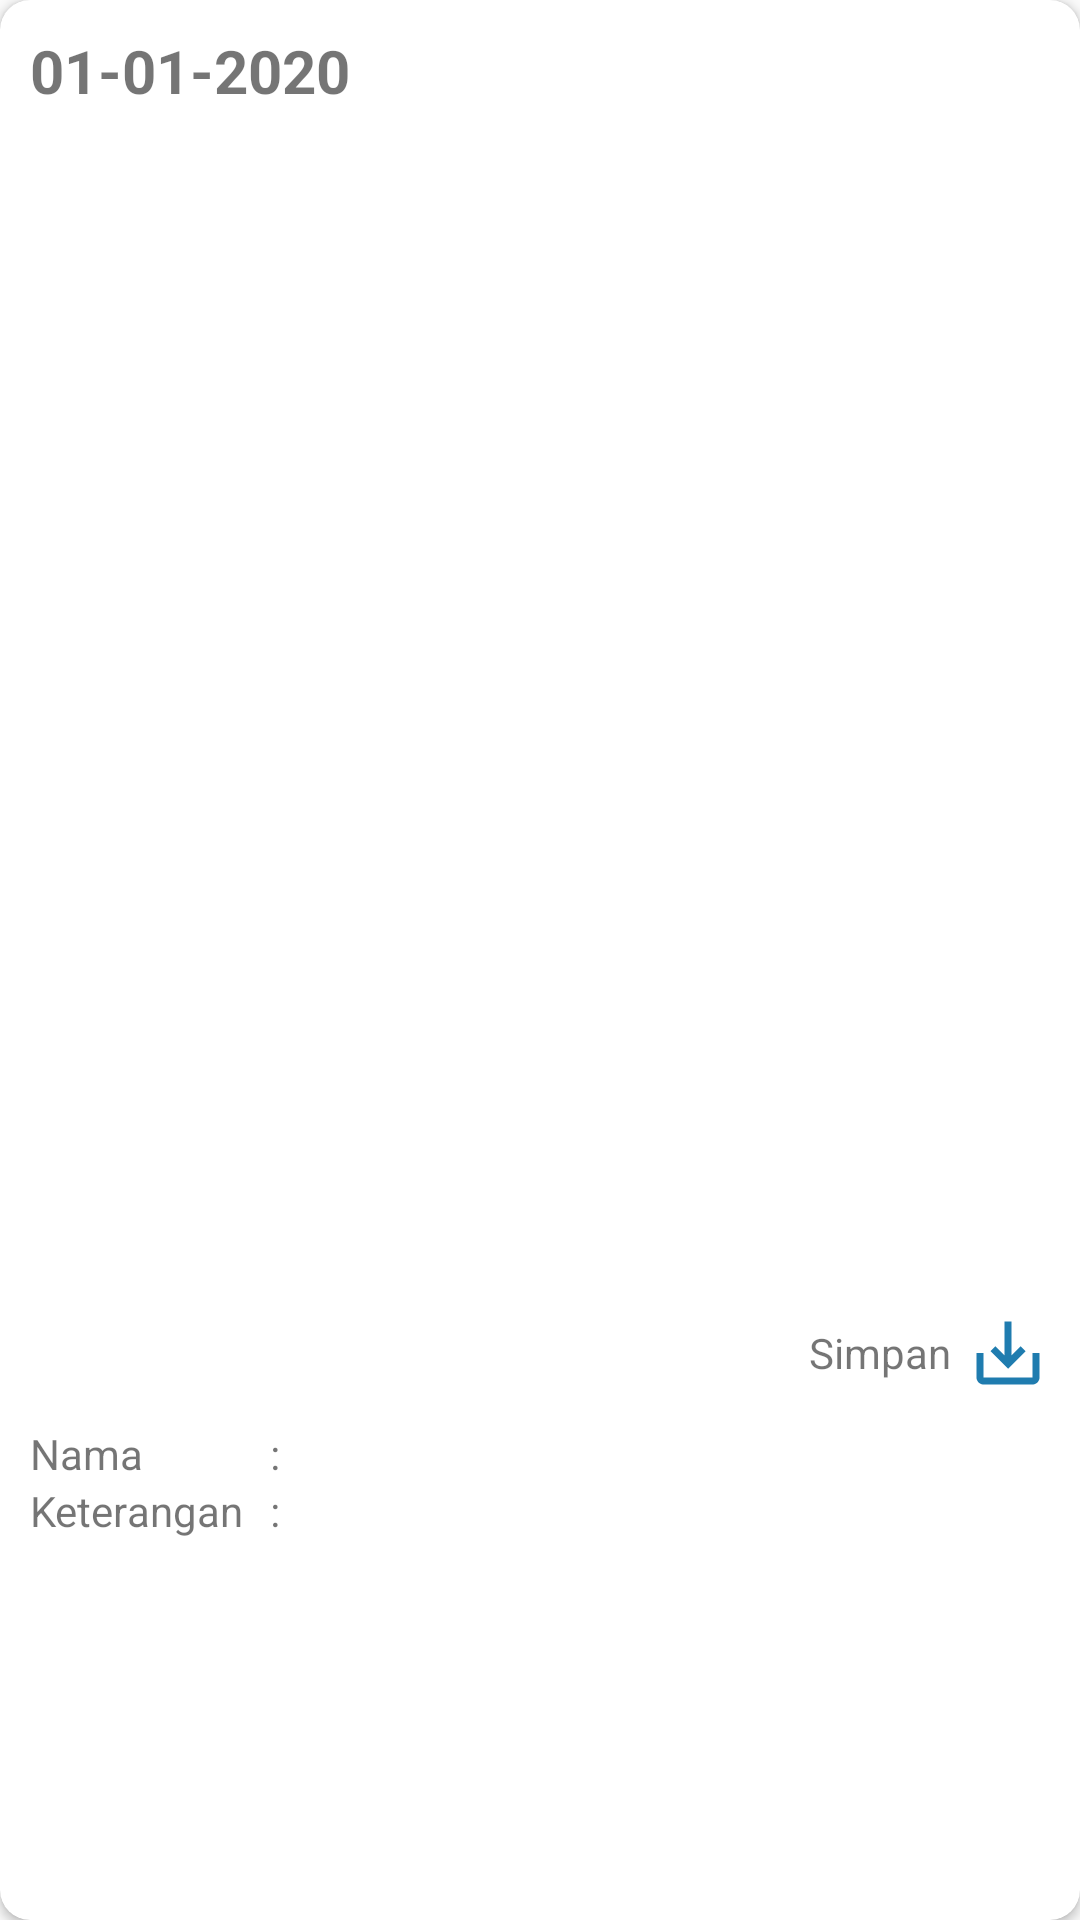

Screen size 1080 x 1920. Icon name, then its center in pixels as (x=x, y=y):
save: (x=1008, y=1353)
